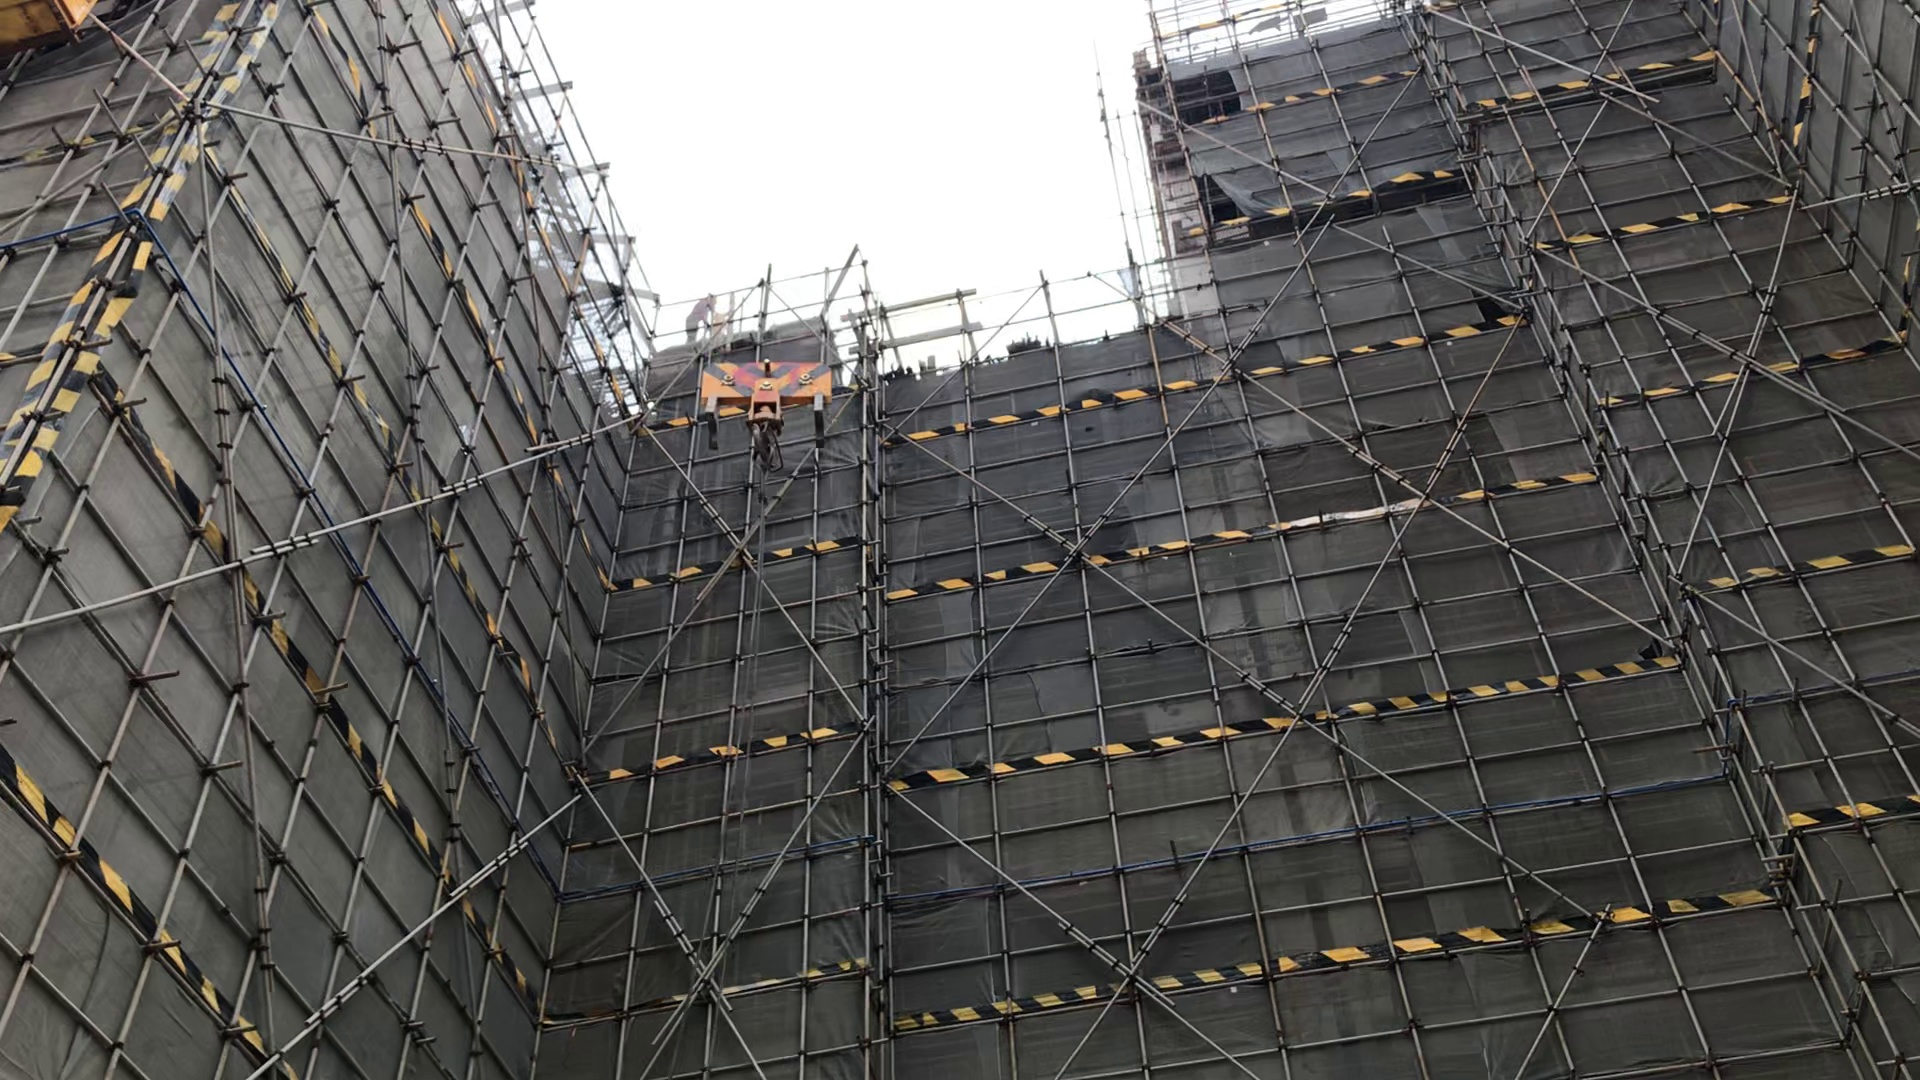hook: (666, 340, 843, 477)
